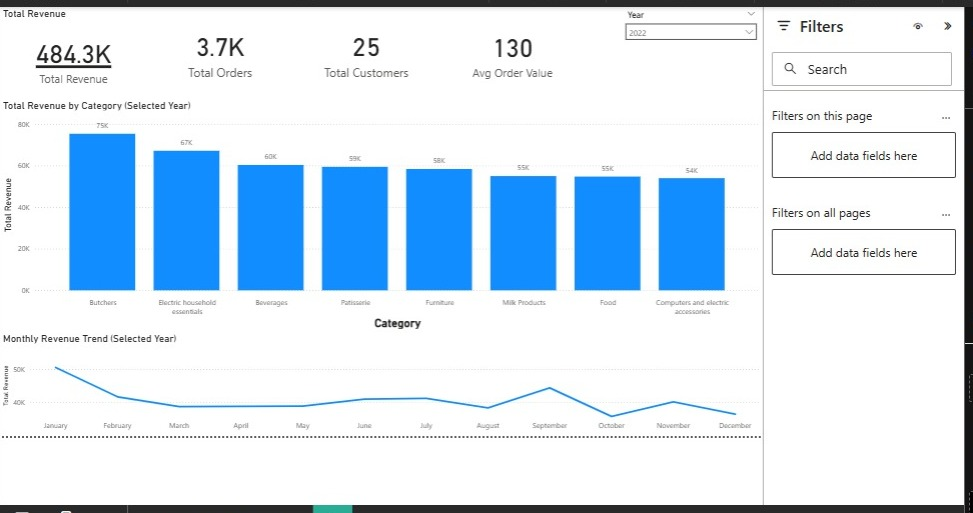

The dashboard page shown, as its layout file describes it:
{"tool":"powerbi","page":{"name":"Executive Sales Dashboard","canvas":[1280,720],"ordinal":0},"visuals":[{"type":"clusteredColumnChart","title":"Total Revenue by Category (Selected Year)","fields":{"Y":["retail_store_sales_clean.Total Revenue"],"Category":["retail_store_sales_clean.Category"]},"box":[0,154.5,1280,391.4],"z":0},{"type":"card","title":"Total Revenue","fields":{"Values":["retail_store_sales_clean.Total Revenue"]},"box":[0,0,246.9,154.5],"z":1000},{"type":"card","fields":{"Values":["retail_store_sales_clean.Total Orders"]},"box":[246.9,0,245.2,154.5],"z":2000},{"type":"card","fields":{"Values":["retail_store_sales_clean.Total Customers"]},"box":[492.2,0,245.2,154.5],"z":3000},{"type":"card","fields":{"Values":["retail_store_sales_clean.Avg Order Value"]},"box":[737.4,0,245.2,154.5],"z":4000},{"type":"lineChart","title":"Monthly Revenue Trend (Selected Year)","fields":{"Category":["retail_store_sales_clean.Transaction Date.Variation.Date Hierarchy.Year","retail_store_sales_clean.Transaction Date.Variation.Date Hierarchy.Quarter","retail_store_sales_clean.Transaction Date.Variation.Date Hierarchy.Month"],"Y":["retail_store_sales_clean.Total Revenue"]},"box":[0,545.9,1280,175],"z":5000},{"type":"slicer","fields":{"Values":["retail_store_sales_clean.Year"]},"box":[1039.8,0,240.2,154.5],"z":5001}]}

Visuals, with their boxes on the page's 1280x720 design canvas (x1, y1, x2, y2). These are canvas units, not pixel positions in the 973x513 screenshot, which may show the page scaled, cropped or inside an application window:
"Total Revenue by Category (Selected Year)" clusteredColumnChart: 0, 154, 1280, 546
"Total Revenue" card: 0, 0, 247, 154
card - retail_store_sales_clean.Total Orders: 247, 0, 492, 154
card - retail_store_sales_clean.Total Customers: 492, 0, 737, 154
card - retail_store_sales_clean.Avg Order Value: 737, 0, 983, 154
"Monthly Revenue Trend (Selected Year)" lineChart: 0, 546, 1280, 721
slicer - retail_store_sales_clean.Year: 1040, 0, 1280, 154
